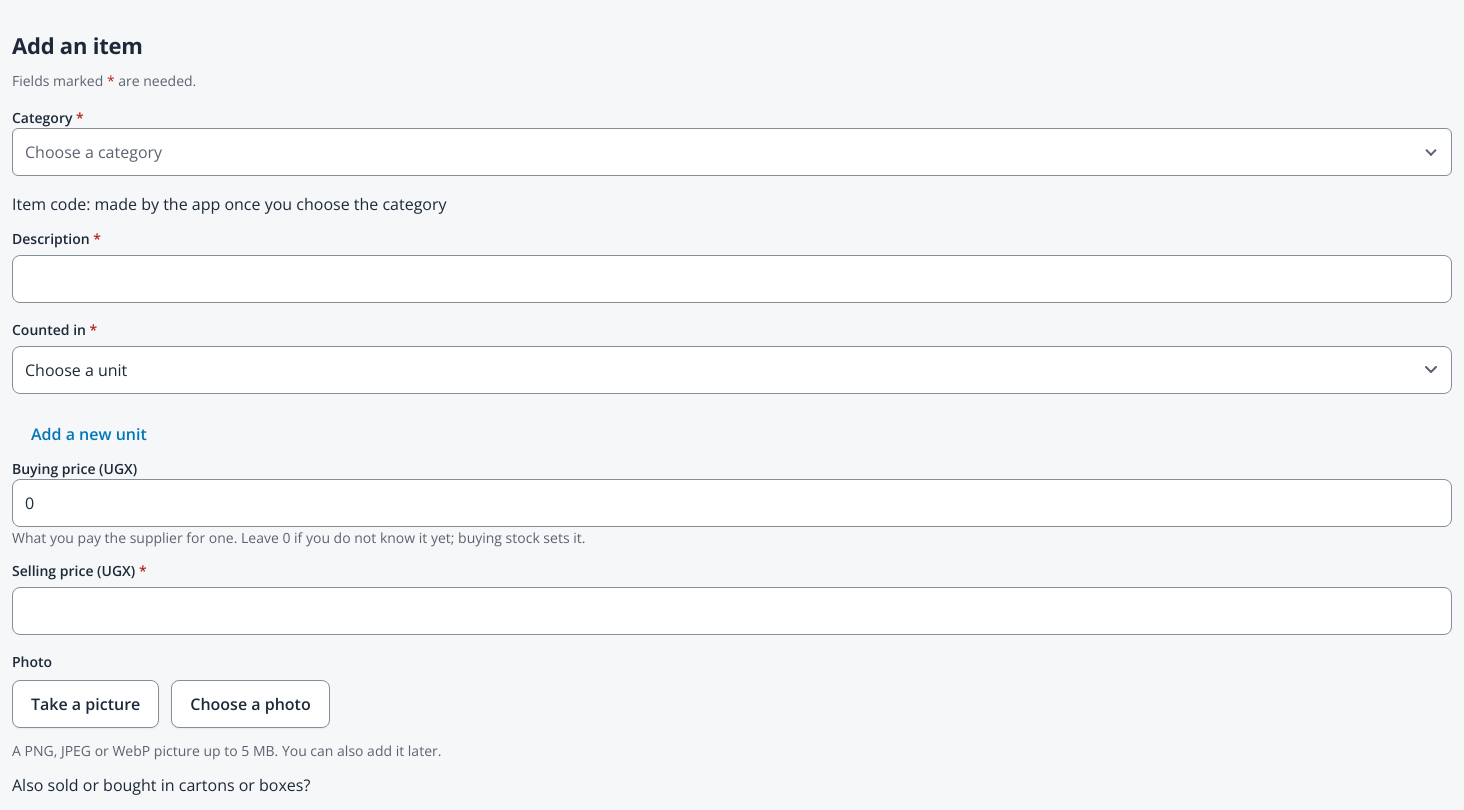
Test: Add an item › offers the category of similar items, which the person chooses with a tap
The image size is (1464, 810).
Type "LED bulb 12W" into the field labelled "Description *" at (732, 279), box [12,255,1452,303]
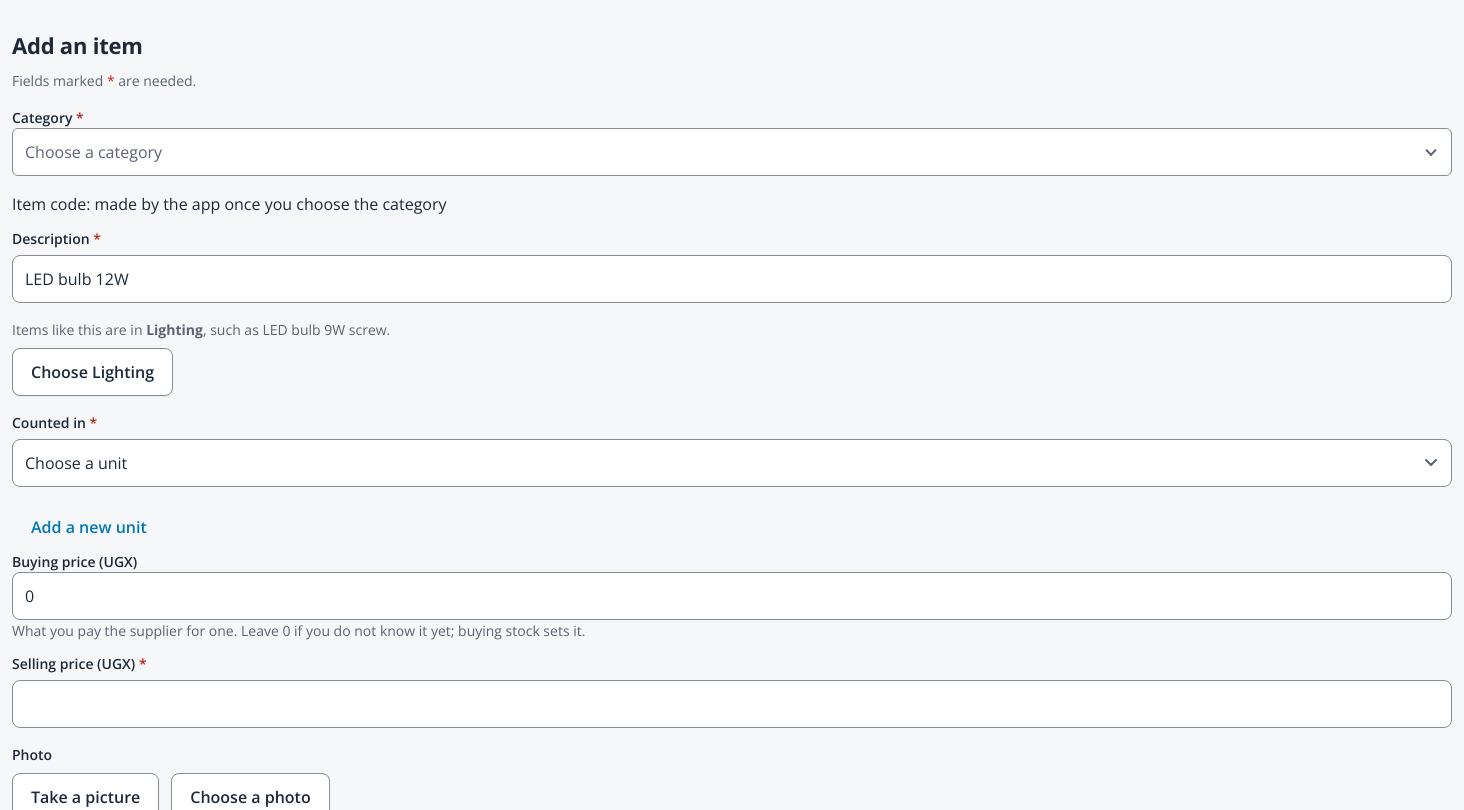
Check: the text with test id "item-code" reads "Item code: made by the app once you choose the category", box [12,193,446,215]
Check: the element with test id "item-category-hint" shows "Items like this are in Lighting, such as LED bulb 9W screw.", box [12,320,390,396]
Click the button "Choose Lighting" at (92, 372), box [12,348,173,396]
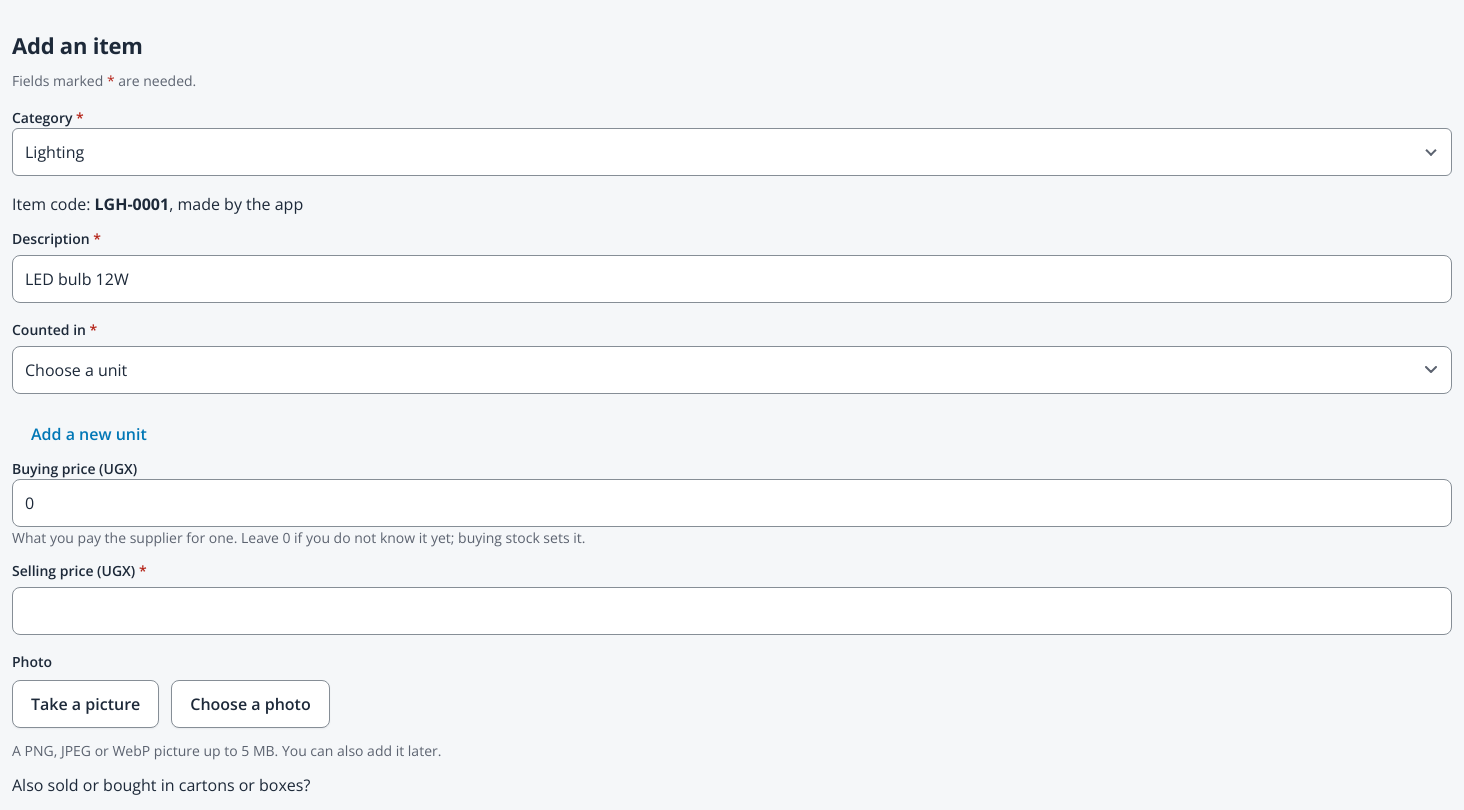
Check: the element with test id "item-category-hint" is gone
